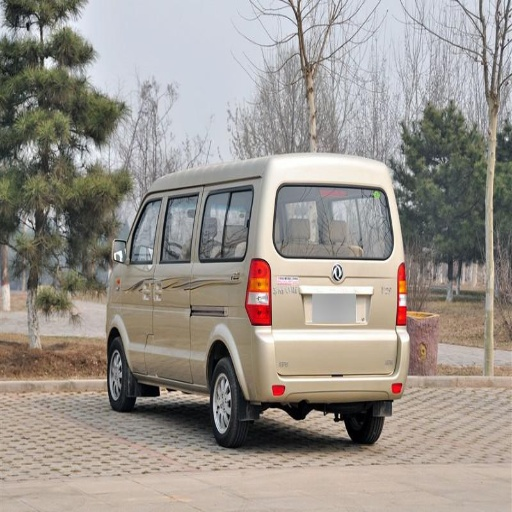back_bumper: (291, 367, 402, 400)
back_left_light: (245, 264, 271, 325)
back_right_door: (277, 181, 342, 243)
trunk: (154, 260, 400, 395)
